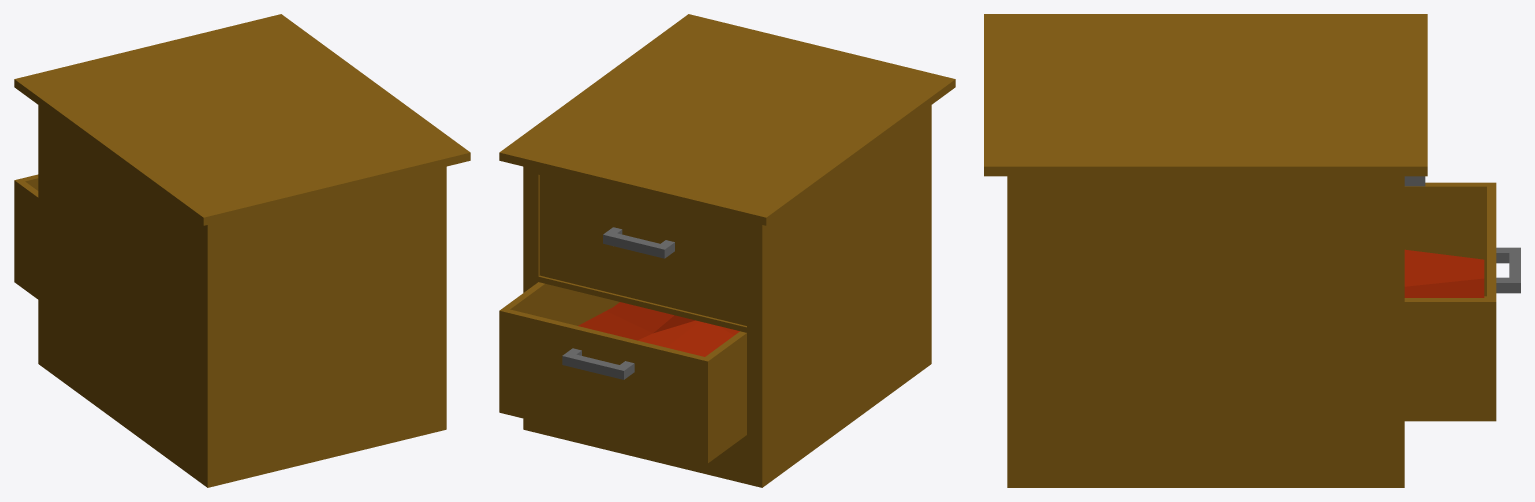
File: Table_de_nuit_gamejam.fbx
3 renders of one model, left to right at view 1: azimuth 30°, elevation 25°; view 2: azimuth 150°, elevation 25°; view 3: azimuth 270°, elevation 25°, orthographic. The views are drawn at different scales.
Parts seen in each view (by area): view 1: Table_nuit; view 2: Table_nuit; view 3: Table_nuit.
Part boxes in pixels (<box>): Table_nuit: <box>14,14,470,487</box>; Table_nuit: <box>499,14,955,487</box>; Table_nuit: <box>984,14,1520,487</box>.
Bounding box in the file's own units: 44.11 × 44.34 × 65.54.
